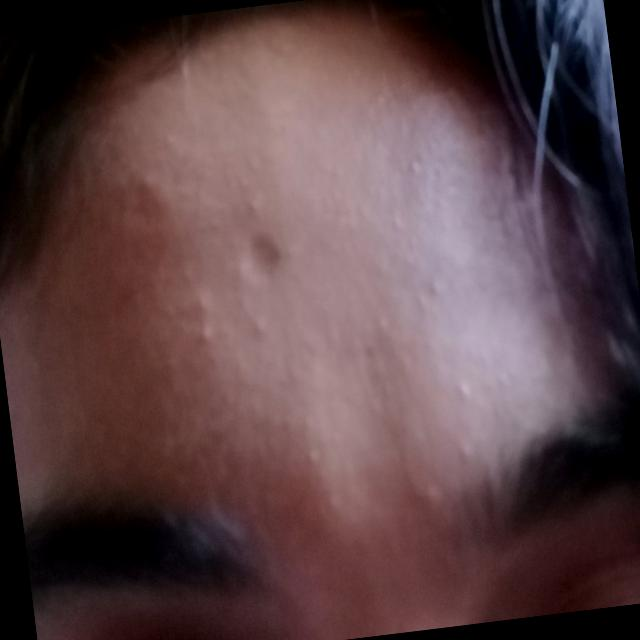fungal: (155, 127, 505, 527)
